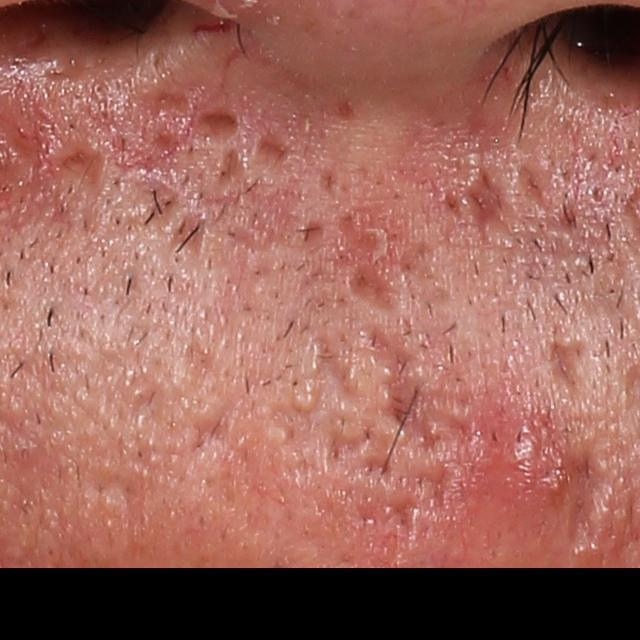atrophic_scar: (556, 447, 602, 557), (399, 386, 469, 458), (310, 331, 364, 405), (322, 413, 381, 477), (356, 495, 418, 539), (48, 138, 105, 185), (467, 167, 506, 235), (343, 267, 397, 312), (545, 339, 583, 398), (140, 80, 193, 119), (192, 104, 240, 145), (252, 132, 294, 172), (519, 158, 553, 205), (192, 413, 229, 453), (176, 209, 208, 255), (297, 215, 327, 252), (361, 457, 392, 477)
hypertrophic_scar: (324, 91, 427, 205), (291, 386, 320, 414), (267, 421, 298, 446)
